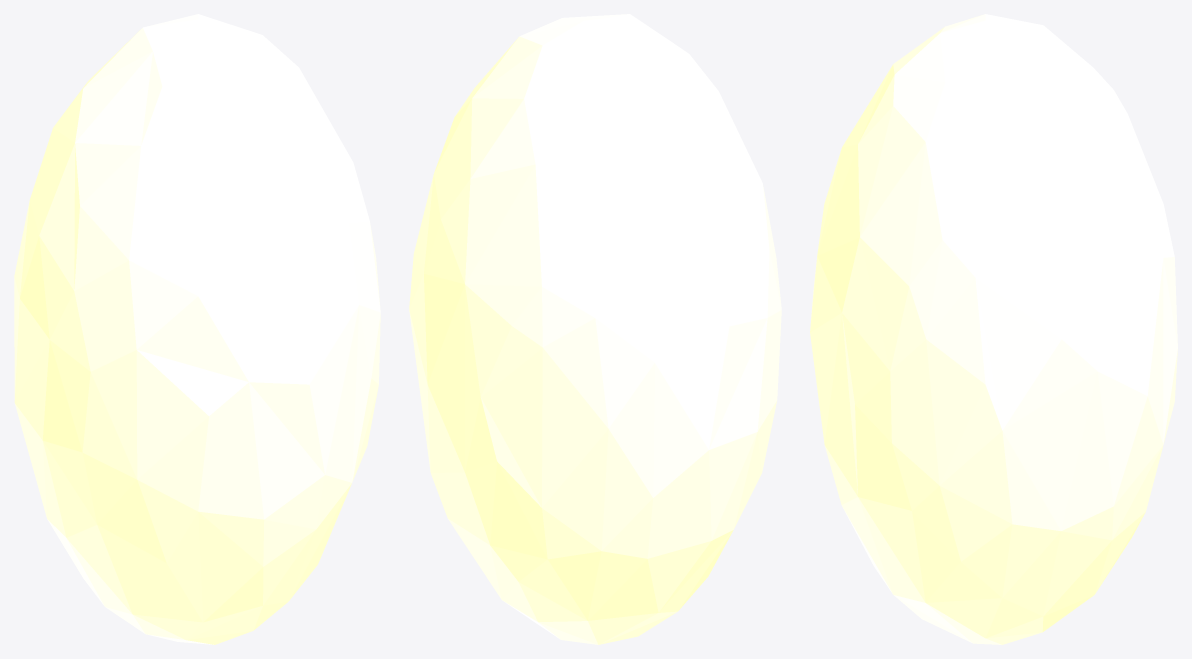
The model's file is lure_brass_flame.glb.
3 renders of one model, left to right at view 1: azimuth 30°, elevation 25°; view 2: azimuth 150°, elevation 25°; view 3: azimuth 270°, elevation 25°, orthographic.
Parts seen in each view (by area): view 1: lure_brass_flame; view 2: lure_brass_flame; view 3: lure_brass_flame.
Boxes of the visible parts, left/top/right/bottom form: lure_brass_flame: left=14, top=14, right=380, bottom=644; lure_brass_flame: left=409, top=14, right=781, bottom=644; lure_brass_flame: left=810, top=14, right=1177, bottom=644.
Bounding box in the file's own units: 0.1087 × 0.1983 × 0.1088.
